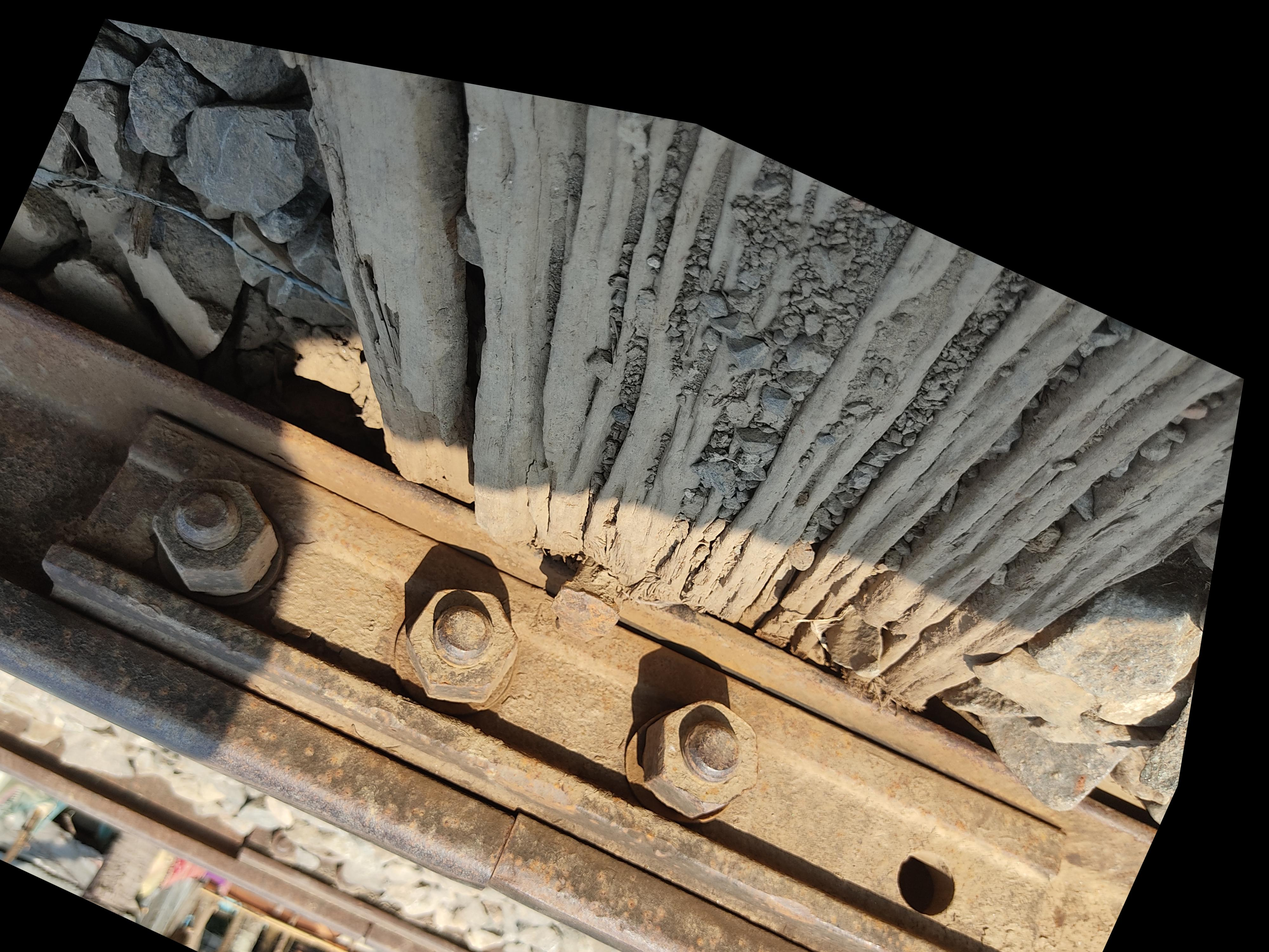person: (113, 733, 236, 849), (90, 822, 119, 852)
